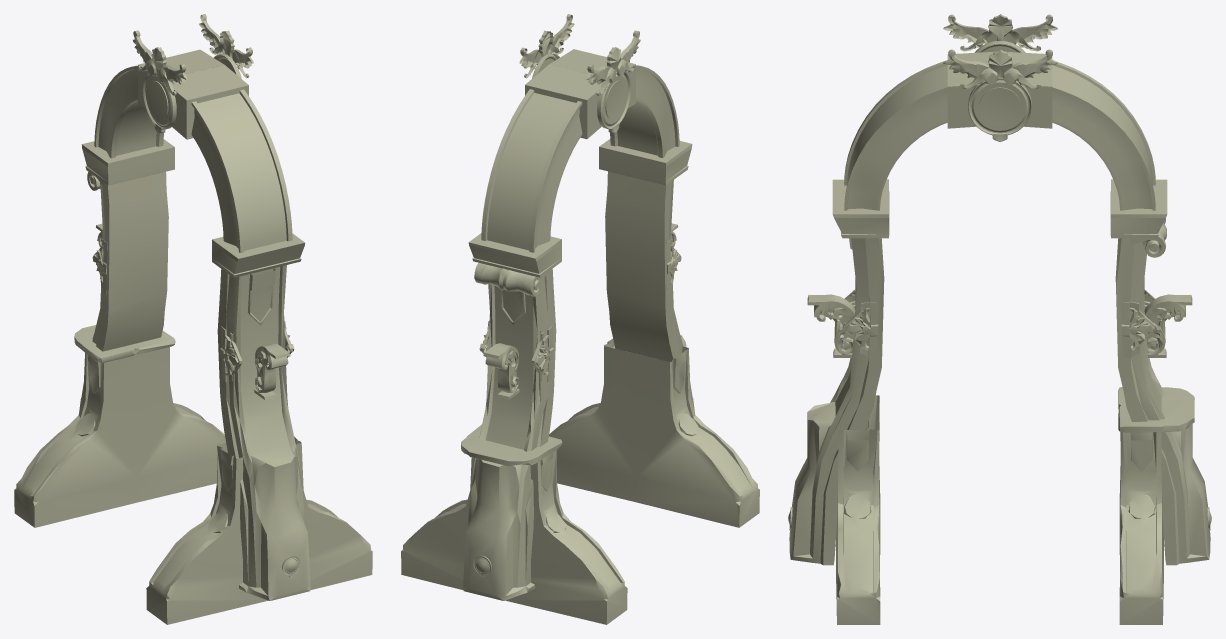
Rendered from SM_alterdooronly.fbx.
3 renders of one model, left to right at view 1: azimuth 30°, elevation 25°; view 2: azimuth 150°, elevation 25°; view 3: azimuth 270°, elevation 25°, orthographic. The views are drawn at different scales.
Parts seen in each view (by area): view 1: SM_alterdoor.001; view 2: SM_alterdoor.001; view 3: SM_alterdoor.001.
Part boxes in pixels (bbox=[...]): SM_alterdoor.001: bbox=[14, 14, 372, 624]; SM_alterdoor.001: bbox=[401, 14, 759, 624]; SM_alterdoor.001: bbox=[788, 14, 1211, 624].
Size of the model in its own units: 398 by 932 by 664.
